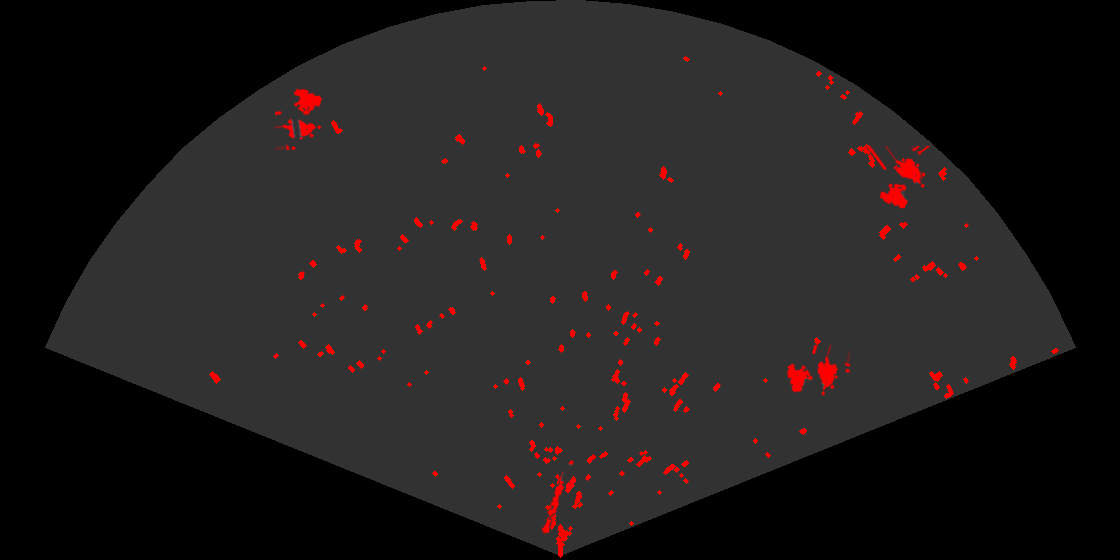cage: (865, 146, 932, 210), (785, 345, 850, 397), (275, 87, 324, 150)
chain: (540, 458, 575, 536)
